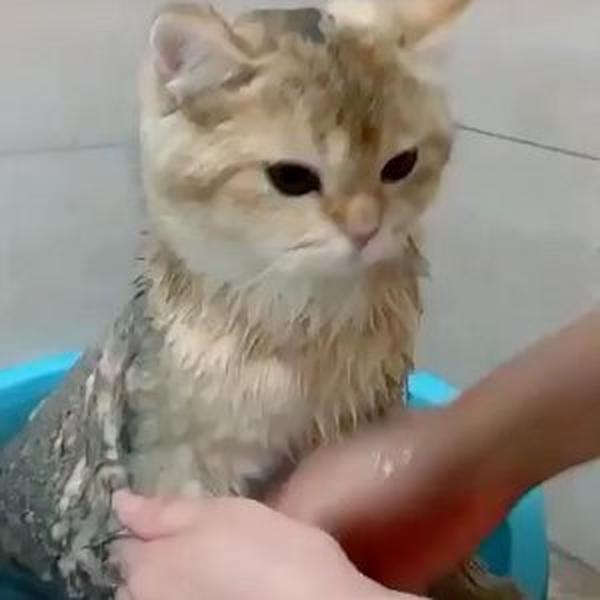michi: (9, 5, 462, 563)
